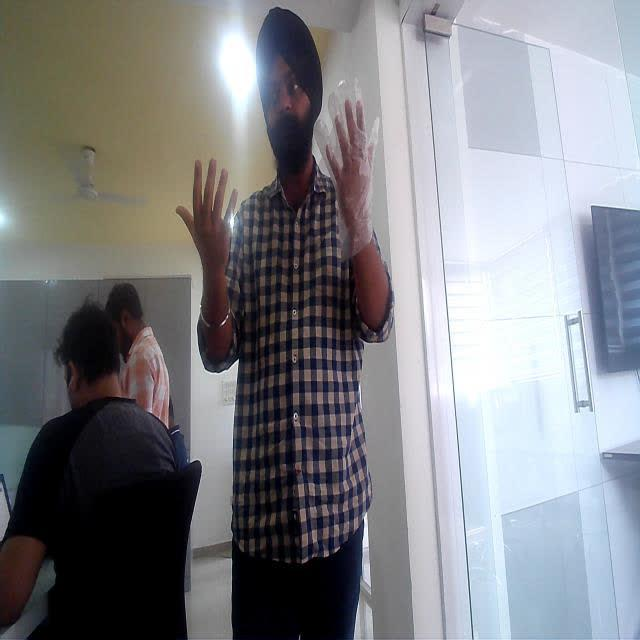with_gloves: (317, 80, 382, 268), (184, 153, 231, 267)
